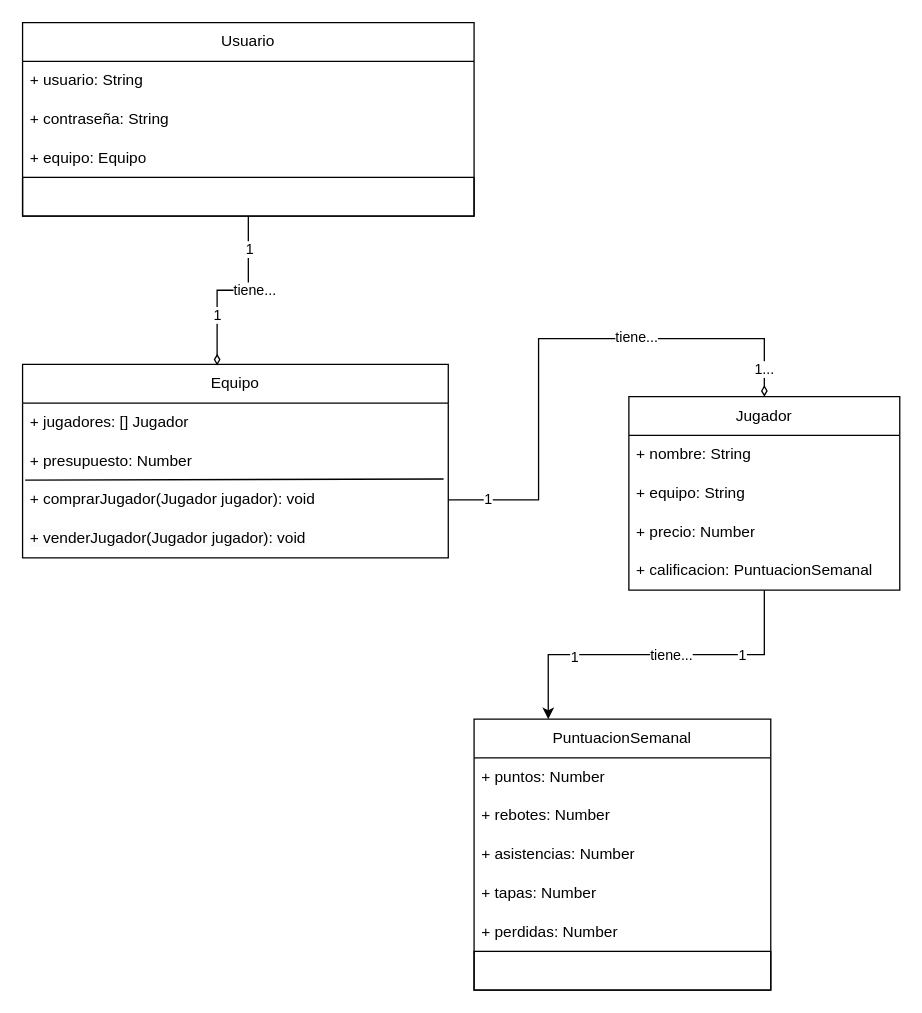
Image size: 922x1013. Some labels were removed from this diagram. The shapes that lost their labels are listed below. From the top down, each one's centre as x and y in pixels, then its label:
(247,196): + obtenerPuntuacionSemanal(Equipo equipo): Number
(622,970): + obtenerPuntuacionTotal(): Number
